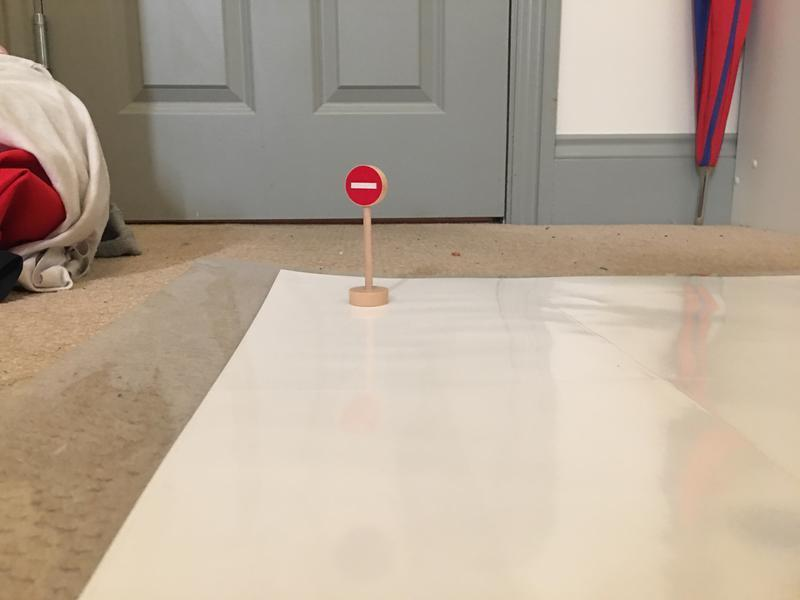Traffic_Sign_No_Entry: (345, 164, 384, 206)
